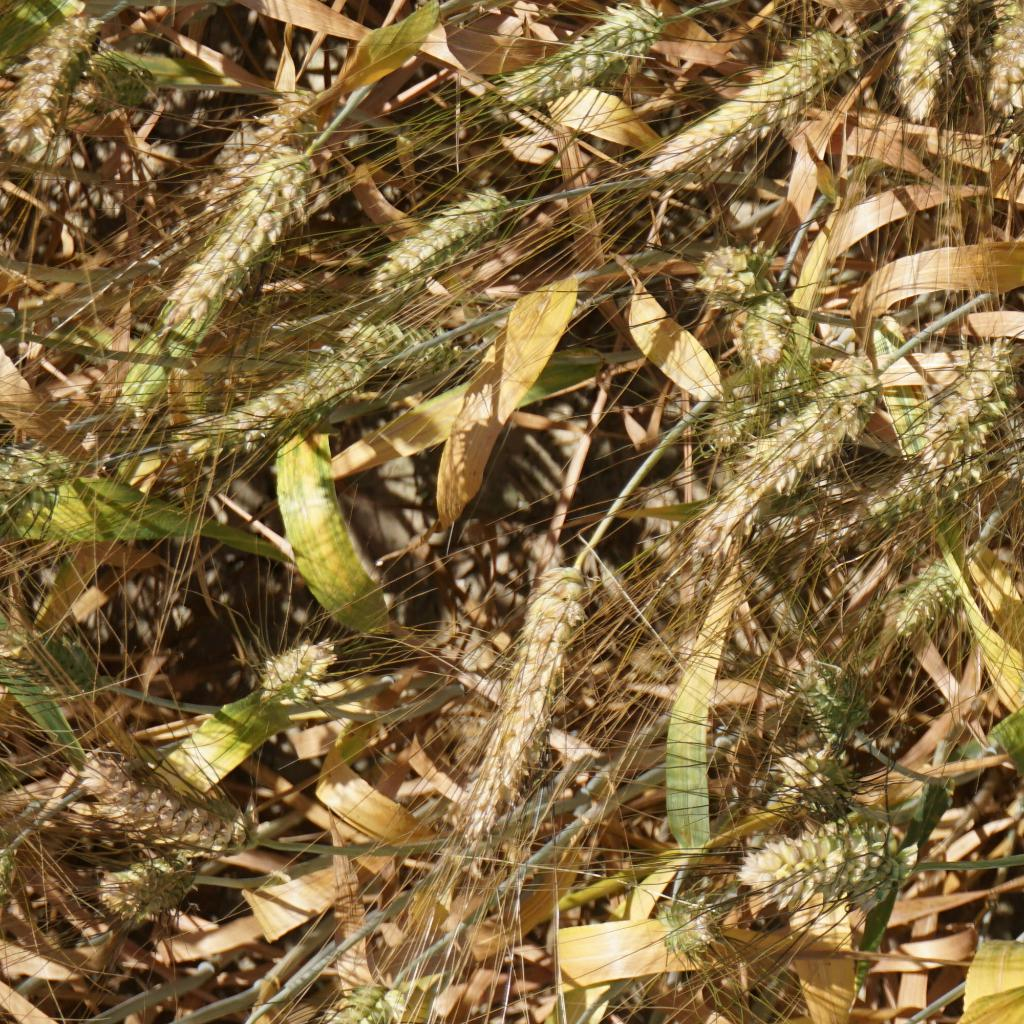0-0: (444, 545, 610, 867), (636, 25, 872, 196), (175, 316, 423, 477), (675, 358, 872, 527), (819, 433, 1003, 567), (145, 161, 289, 325), (74, 746, 269, 860), (369, 187, 535, 299), (495, 0, 657, 111), (180, 96, 353, 195), (750, 813, 911, 903), (311, 309, 495, 385), (919, 334, 1014, 441), (0, 616, 123, 698), (0, 13, 69, 155), (758, 740, 868, 825), (791, 647, 886, 744), (888, 0, 966, 116), (56, 49, 181, 120), (260, 626, 352, 709), (0, 448, 82, 539), (100, 856, 206, 923), (308, 966, 430, 1024), (893, 563, 970, 646), (724, 299, 801, 379), (702, 234, 781, 307), (659, 891, 736, 954), (990, 0, 1024, 121)
